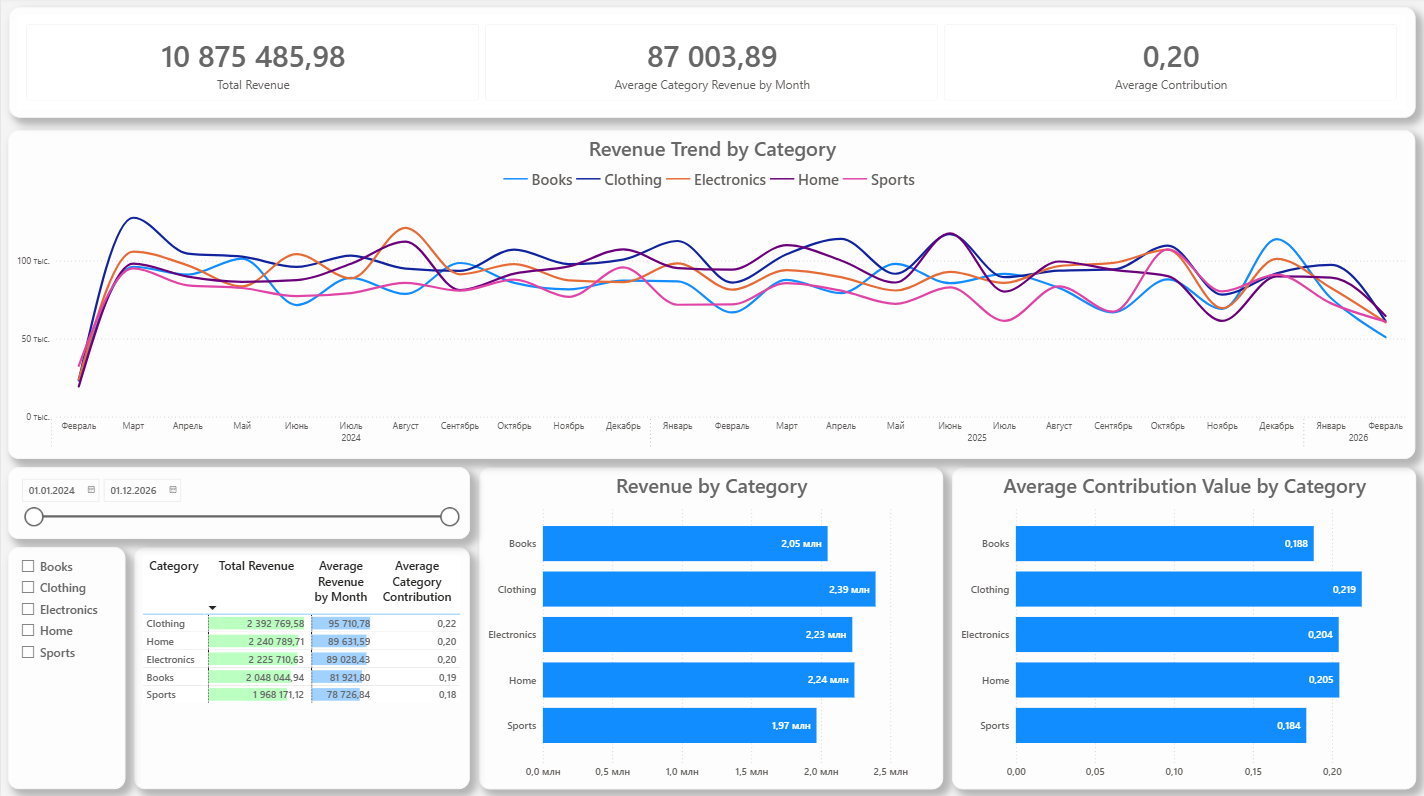

The page's visual inventory and layout, read from the dashboard file:
{"tool":"powerbi","page":{"name":"Revenue by Category","canvas":[1920,1080],"ordinal":2},"visuals":[{"type":"clusteredBarChart","title":"Revenue by Category","fields":{"Category":["mart category_contribution.category","dim_month.month_start.Изменение.Иерархия дат.Год","dim_month.month_start.Изменение.Иерархия дат.Месяц"],"Y":["Sum(mart category_contribution.category_revenue)"]},"box":[643.1,632.3,624.6,433.8],"z":0},{"type":"barChart","title":"Average Contribution Value by Category","fields":{"Category":["mart category_contribution.category","dim_month.month_start.Изменение.Иерархия дат.Год","dim_month.month_start.Изменение.Иерархия дат.Месяц"],"Y":["Avg(mart category_contribution.contribution_pct)"]},"box":[1280,632.3,624.6,433.8],"z":1000},{"type":"lineChart","title":"Revenue Trend by Category","fields":{"Category":["dim_month.month_start.Изменение.Иерархия дат.Год","dim_month.month_start.Изменение.Иерархия дат.Месяц"],"Y":["Sum(mart category_contribution.category_revenue)"],"Series":["mart category_contribution.category"]},"box":[9.2,178.5,1895.4,443.1],"z":2000},{"type":"cardVisual","fields":{"Data":["Sum(mart category_contribution.category_revenue)1","Avg(mart category_contribution.category_revenue)","Avg(mart category_contribution.contribution_pct)"]},"box":[10.8,13.8,1893.8,149.2],"z":3000},{"type":"tableEx","fields":{"Values":["mart category_contribution.category","Sum(mart category_contribution.category_revenue)","Avg(mart category_contribution.category_revenue)","Avg(mart category_contribution.contribution_pct)"]},"box":[178.5,740,452.3,326.2],"z":4000},{"type":"slicer","fields":{"Values":["dim_month.month_start"]},"box":[9.2,632.3,621.5,96.9],"z":5000},{"type":"slicer","fields":{"Values":["mart category_contribution.category"]},"box":[9.2,740,158.5,326.2],"z":6000}]}

Visuals, with their boxes in screenshot pixels (x1, y1, x2, y2), scaled from the page's 1920x1080 canvas onto the 1424x796 screenshot:
"Revenue by Category" clusteredBarChart: (left=477, top=466, right=940, bottom=786)
"Average Contribution Value by Category" barChart: (left=949, top=466, right=1413, bottom=786)
"Revenue Trend by Category" lineChart: (left=7, top=132, right=1413, bottom=458)
cardVisual - Sum(mart category_contribution.category_revenue)1 x Avg(mart category_contribution.category_revenue): (left=8, top=10, right=1413, bottom=120)
tableEx - mart category_contribution.category x Sum(mart category_contribution.category_revenue): (left=132, top=545, right=468, bottom=786)
slicer - dim_month.month_start: (left=7, top=466, right=468, bottom=537)
slicer - mart category_contribution.category: (left=7, top=545, right=124, bottom=786)
